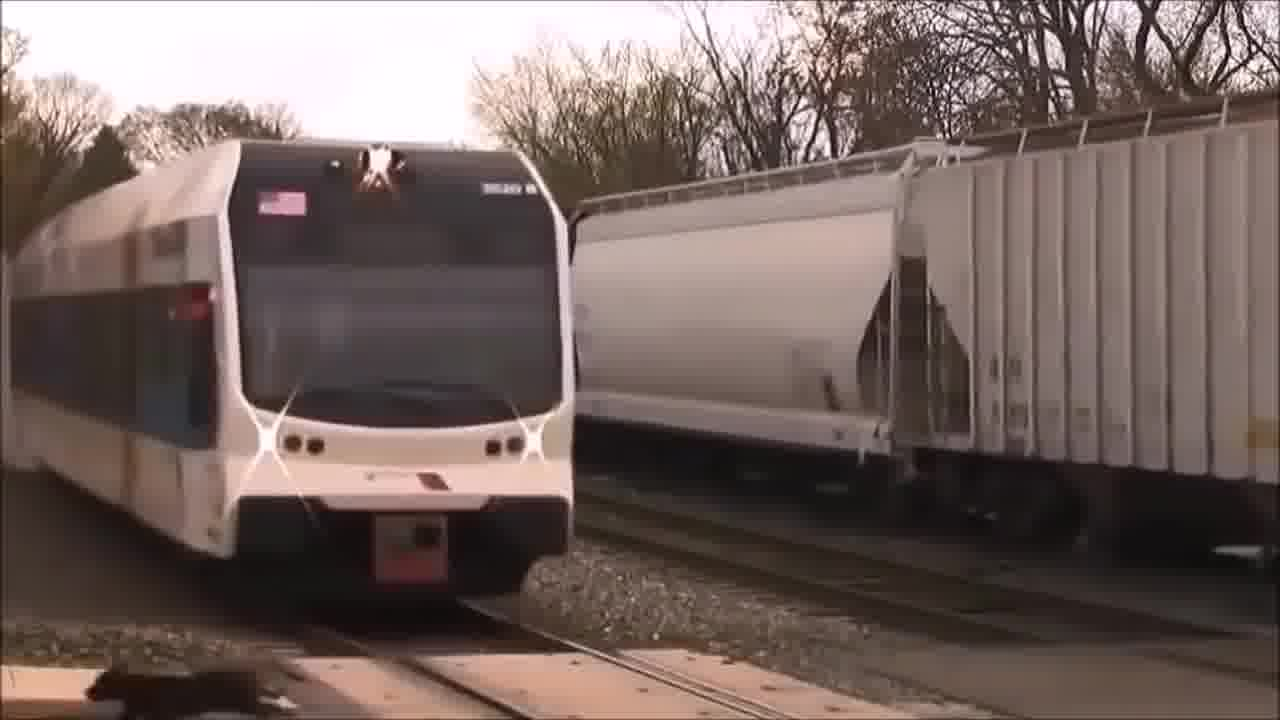crossing railway track: (66, 541, 887, 720)
